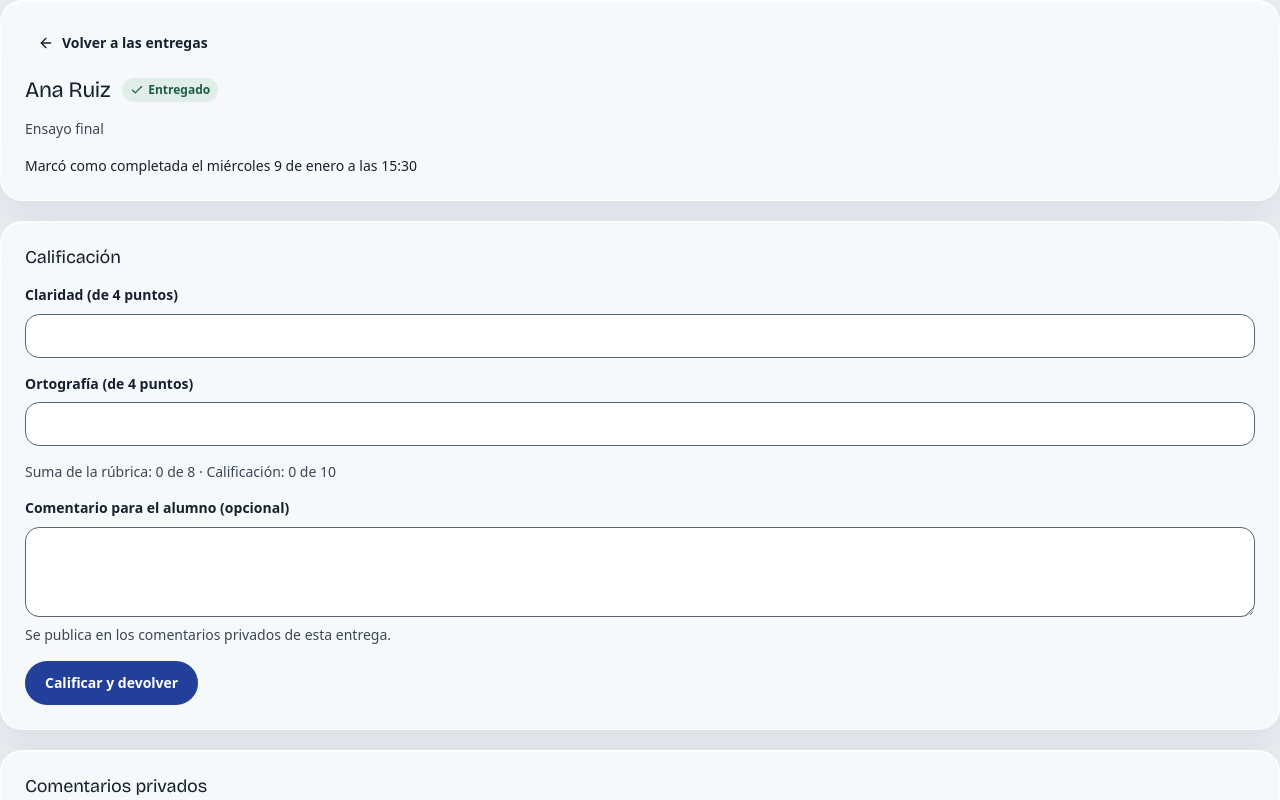
it: ataque 01c r1 · números del panel › CAL-T-73: en la pantalla, una mitad exacta sube (0.02 de 8 sobre 10 puntos da 0.03) y la suma no cuenta un campo inválido
In the field labelled "Claridad (de 4 puntos)": (640, 336) [25, 314, 1255, 358], type "0,01"
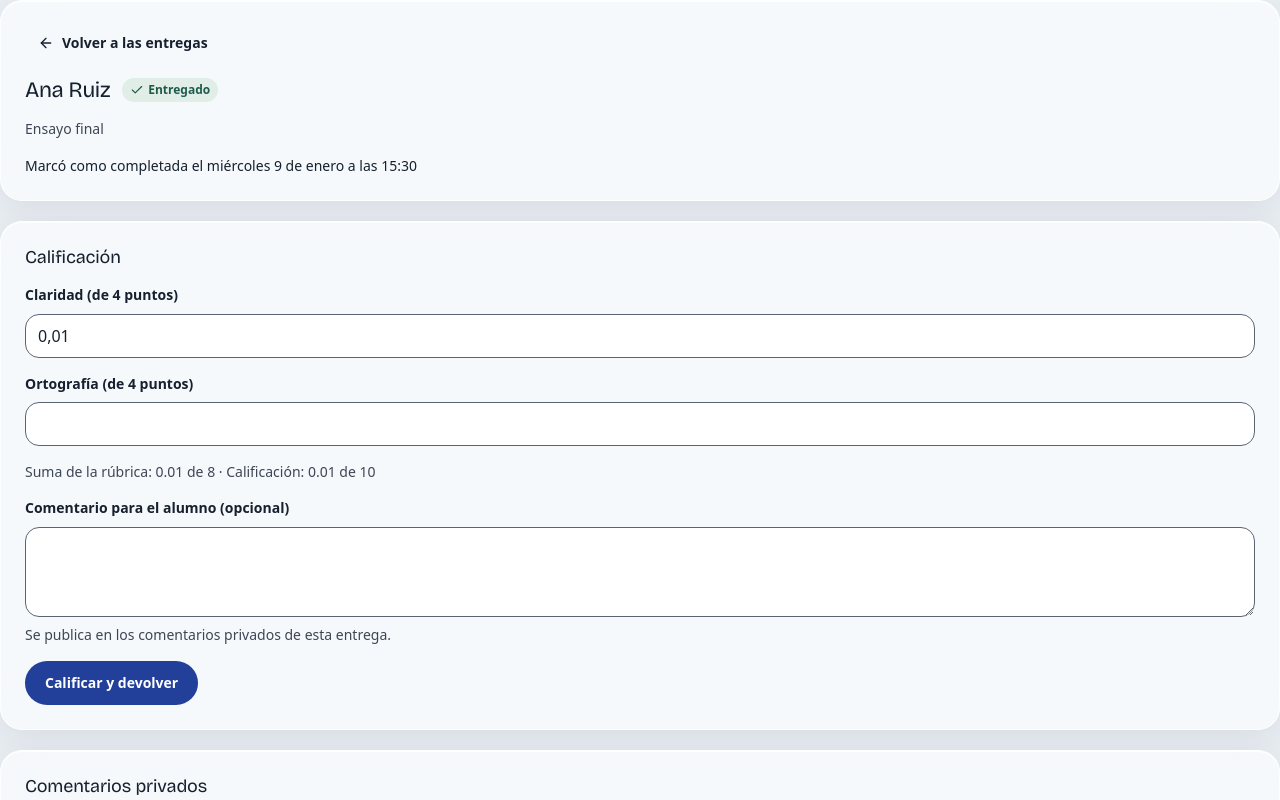
In the field labelled "Ortografía (de 4 puntos)": (640, 424) [25, 402, 1255, 446], type "9"
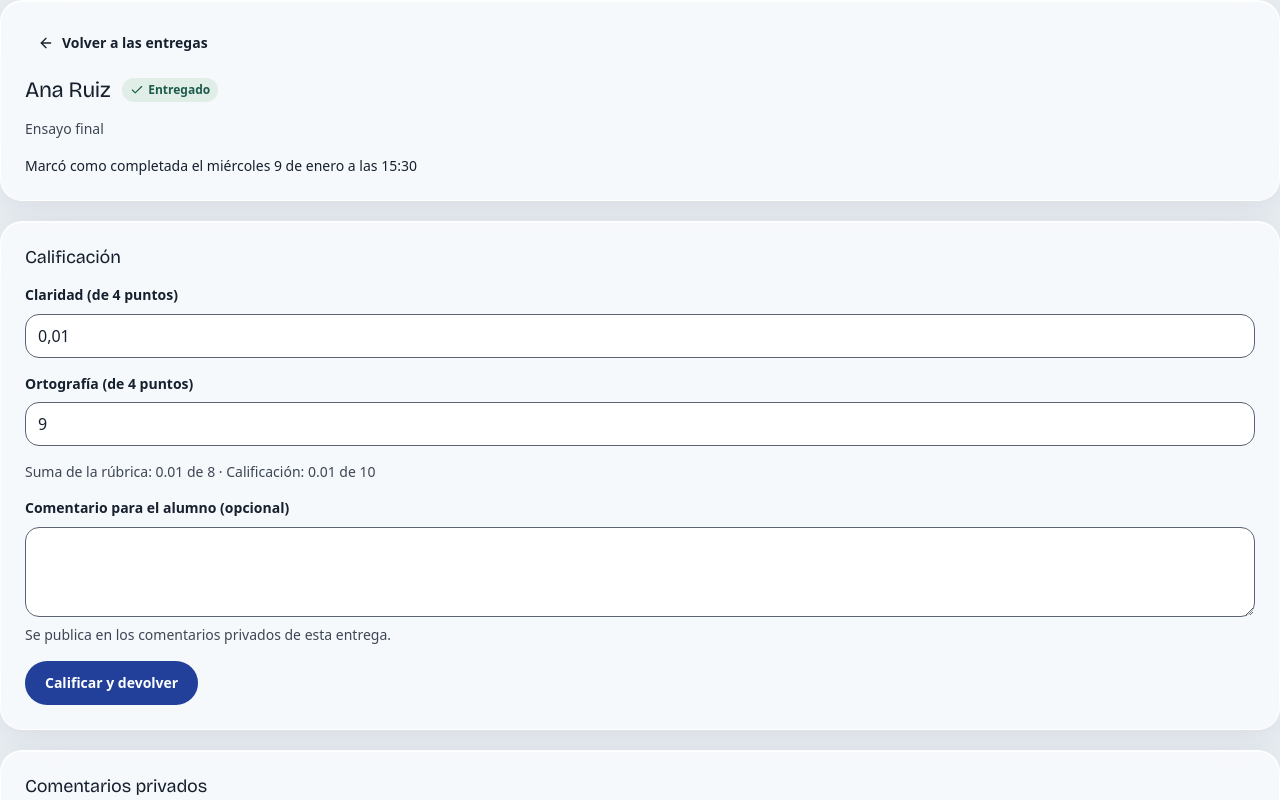
Result: the text "Suma de la rúbrica: 0.01 de 8 · Calificación: 0.01 de 10" is shown at [25, 462, 376, 481]
Clear the field labelled "Ortografía (de 4 puntos)": (640, 424) [25, 402, 1255, 446]
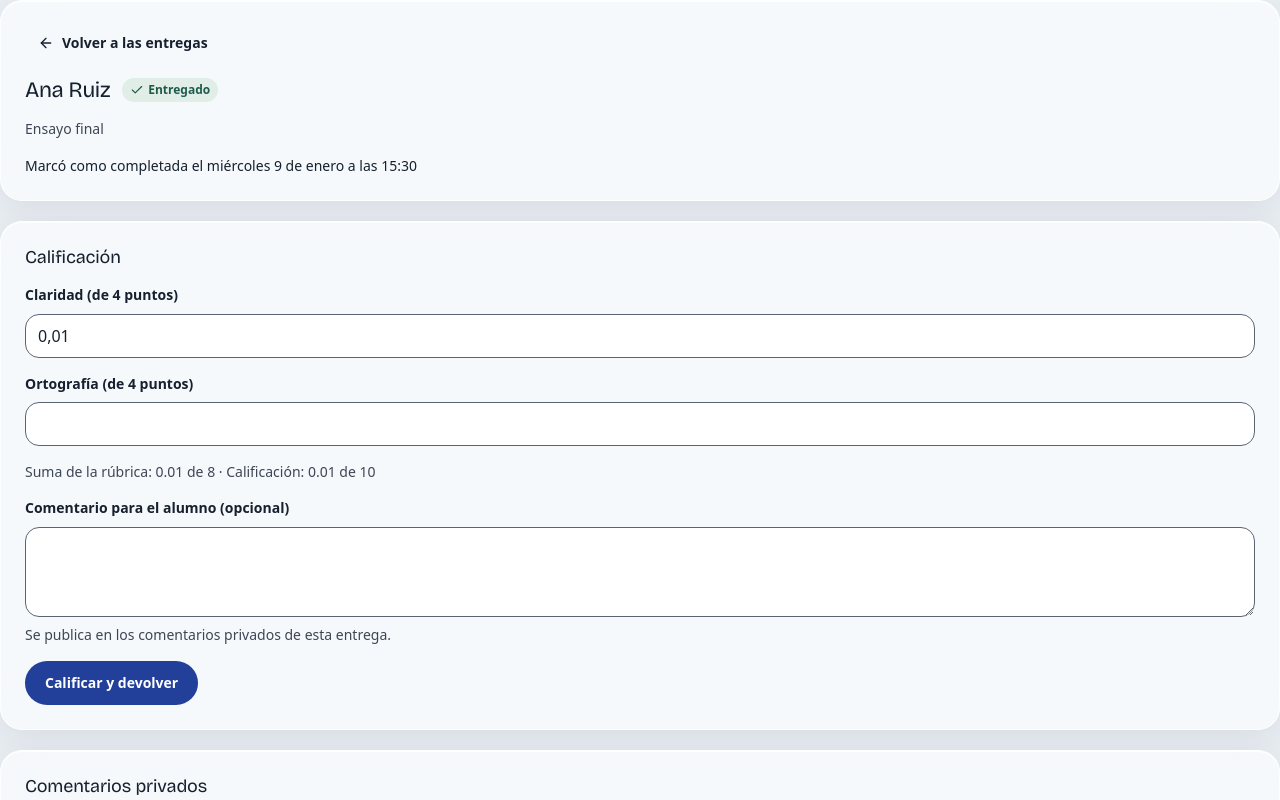
Replace the text in the field labelled "Claridad (de 4 puntos)" with "0.02": (640, 336) [25, 314, 1255, 358]
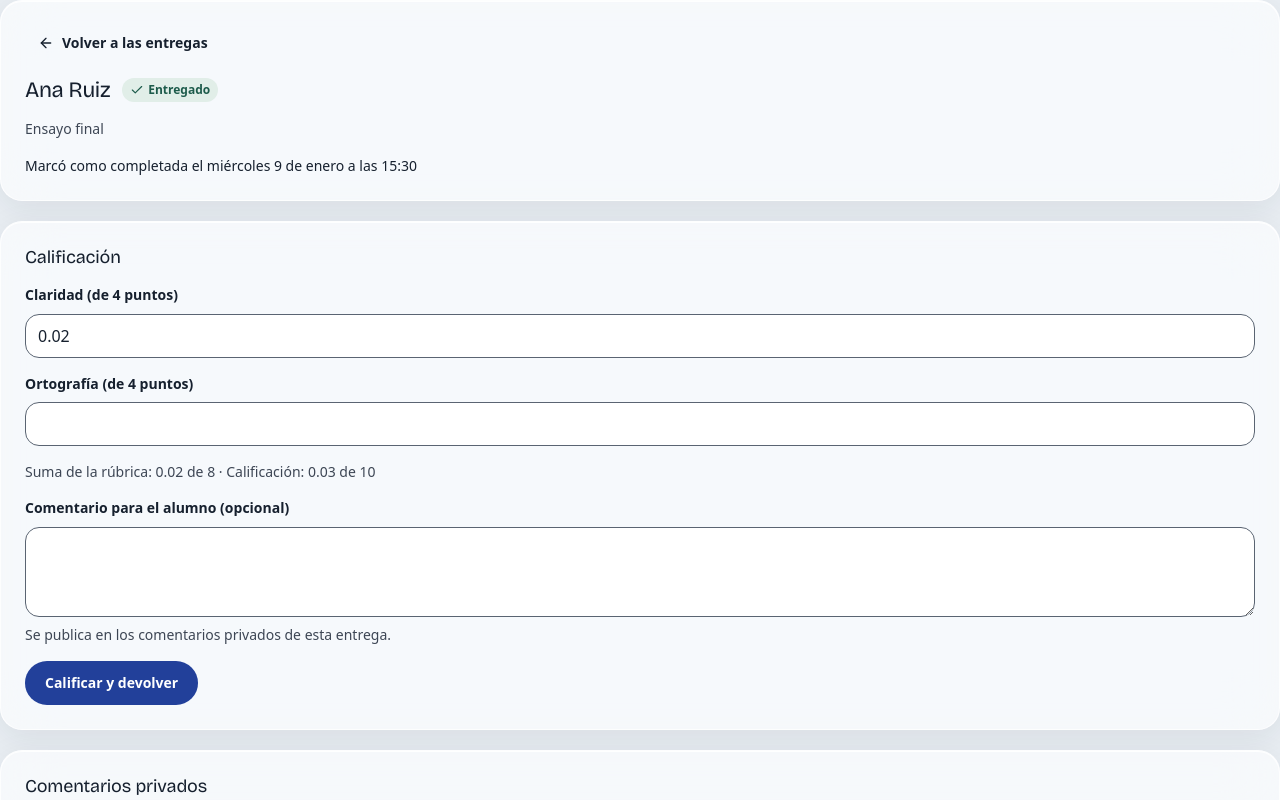
Result: the text "Suma de la rúbrica: 0.02 de 8 · Calificación: 0.03 de 10" is shown at [25, 462, 376, 481]
